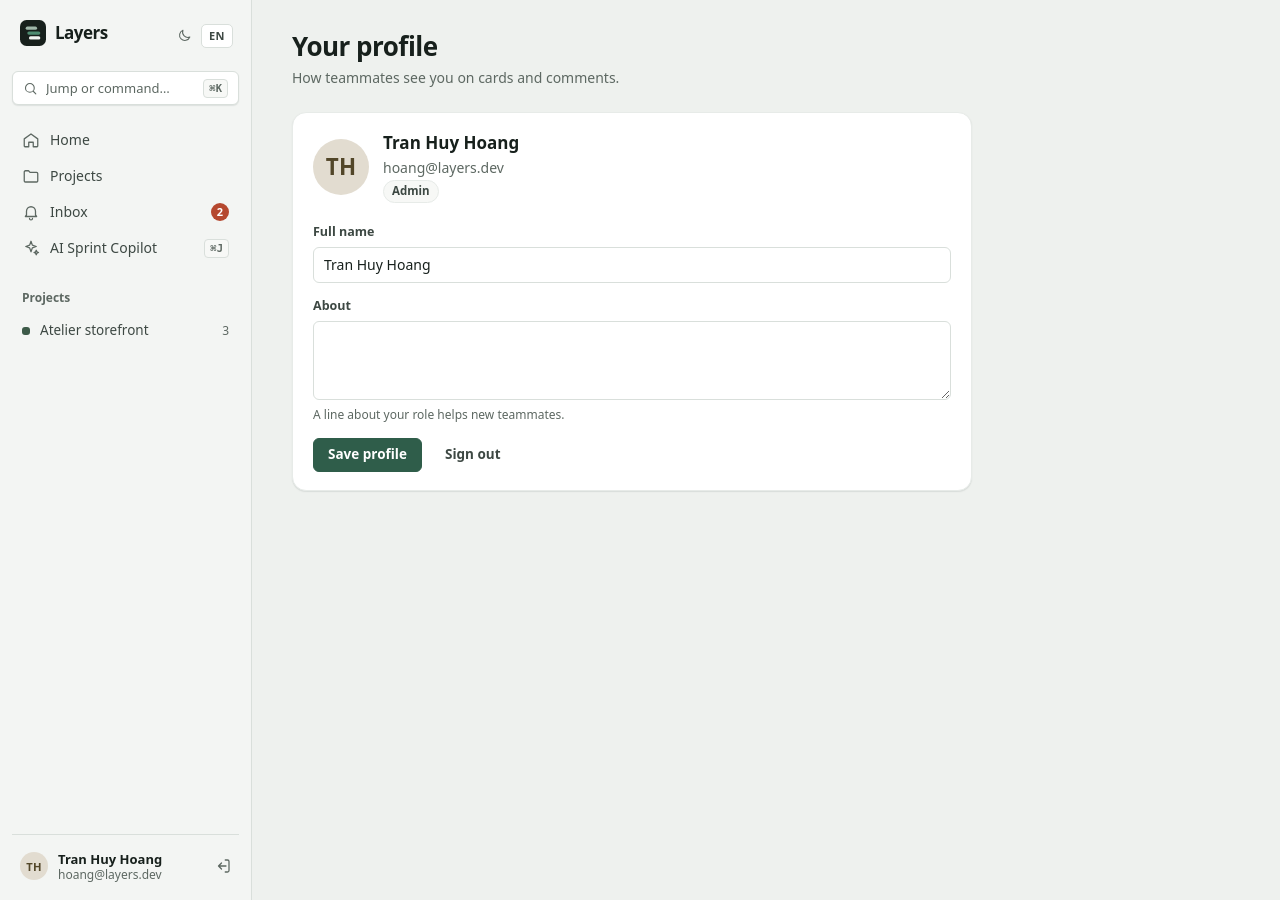
Test case: Profile › updates the name
Replace the text in the field labelled "Full name" with "Hoang Tran" at (632, 265), box [313,247,951,283]
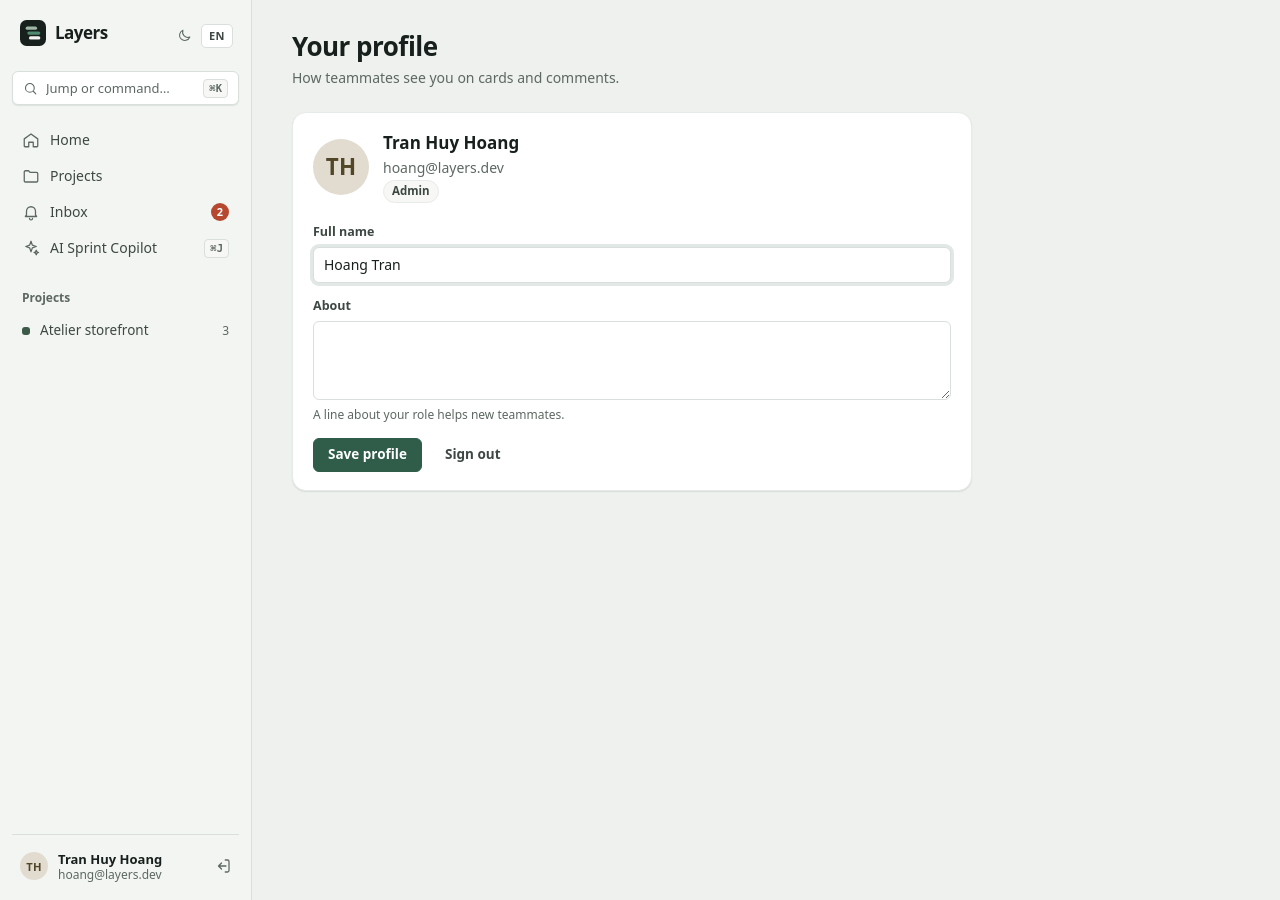
Click the button "Save profile" at (368, 455), box [313,438,422,472]
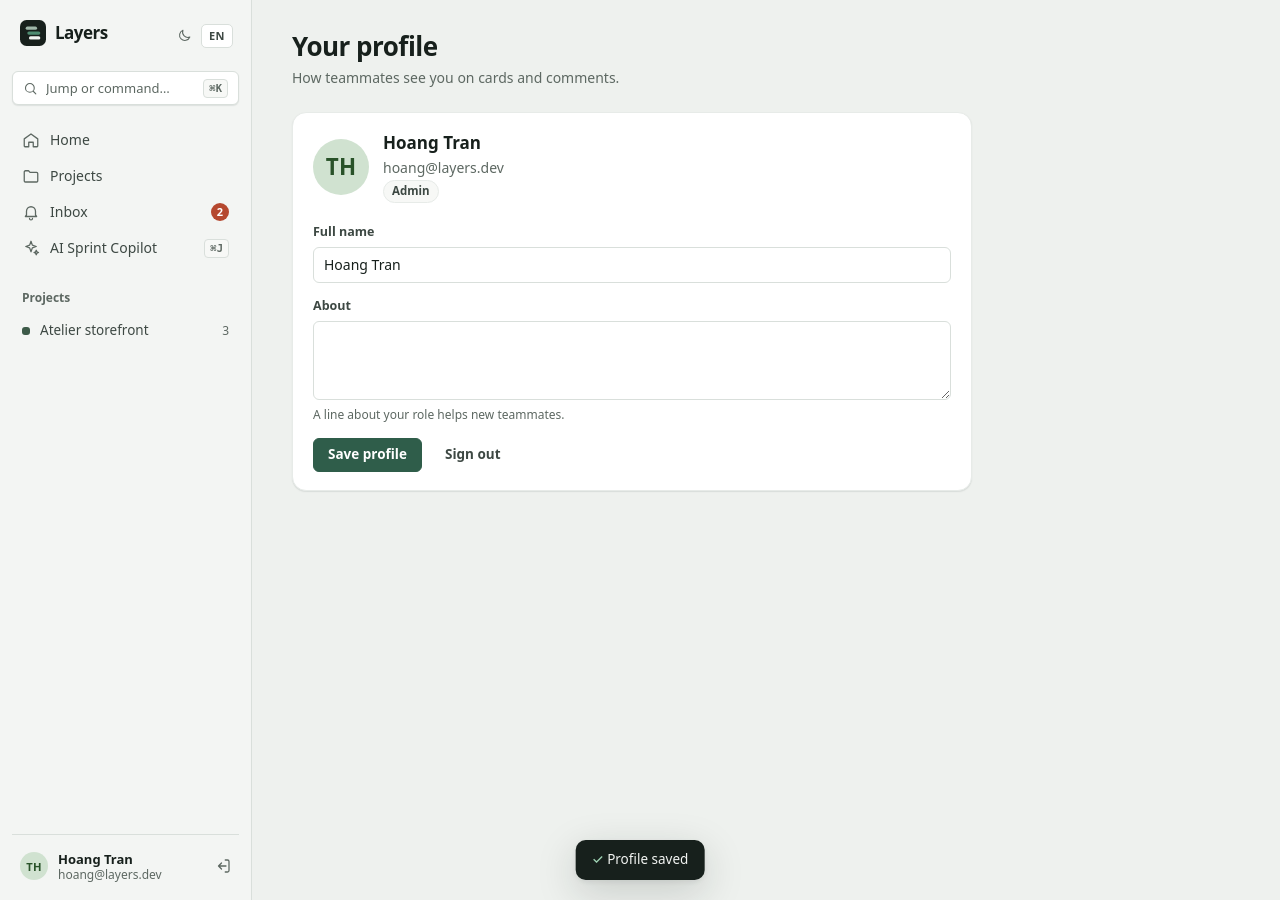
Check: the text "Profile saved" is shown, box [576,840,704,880]
